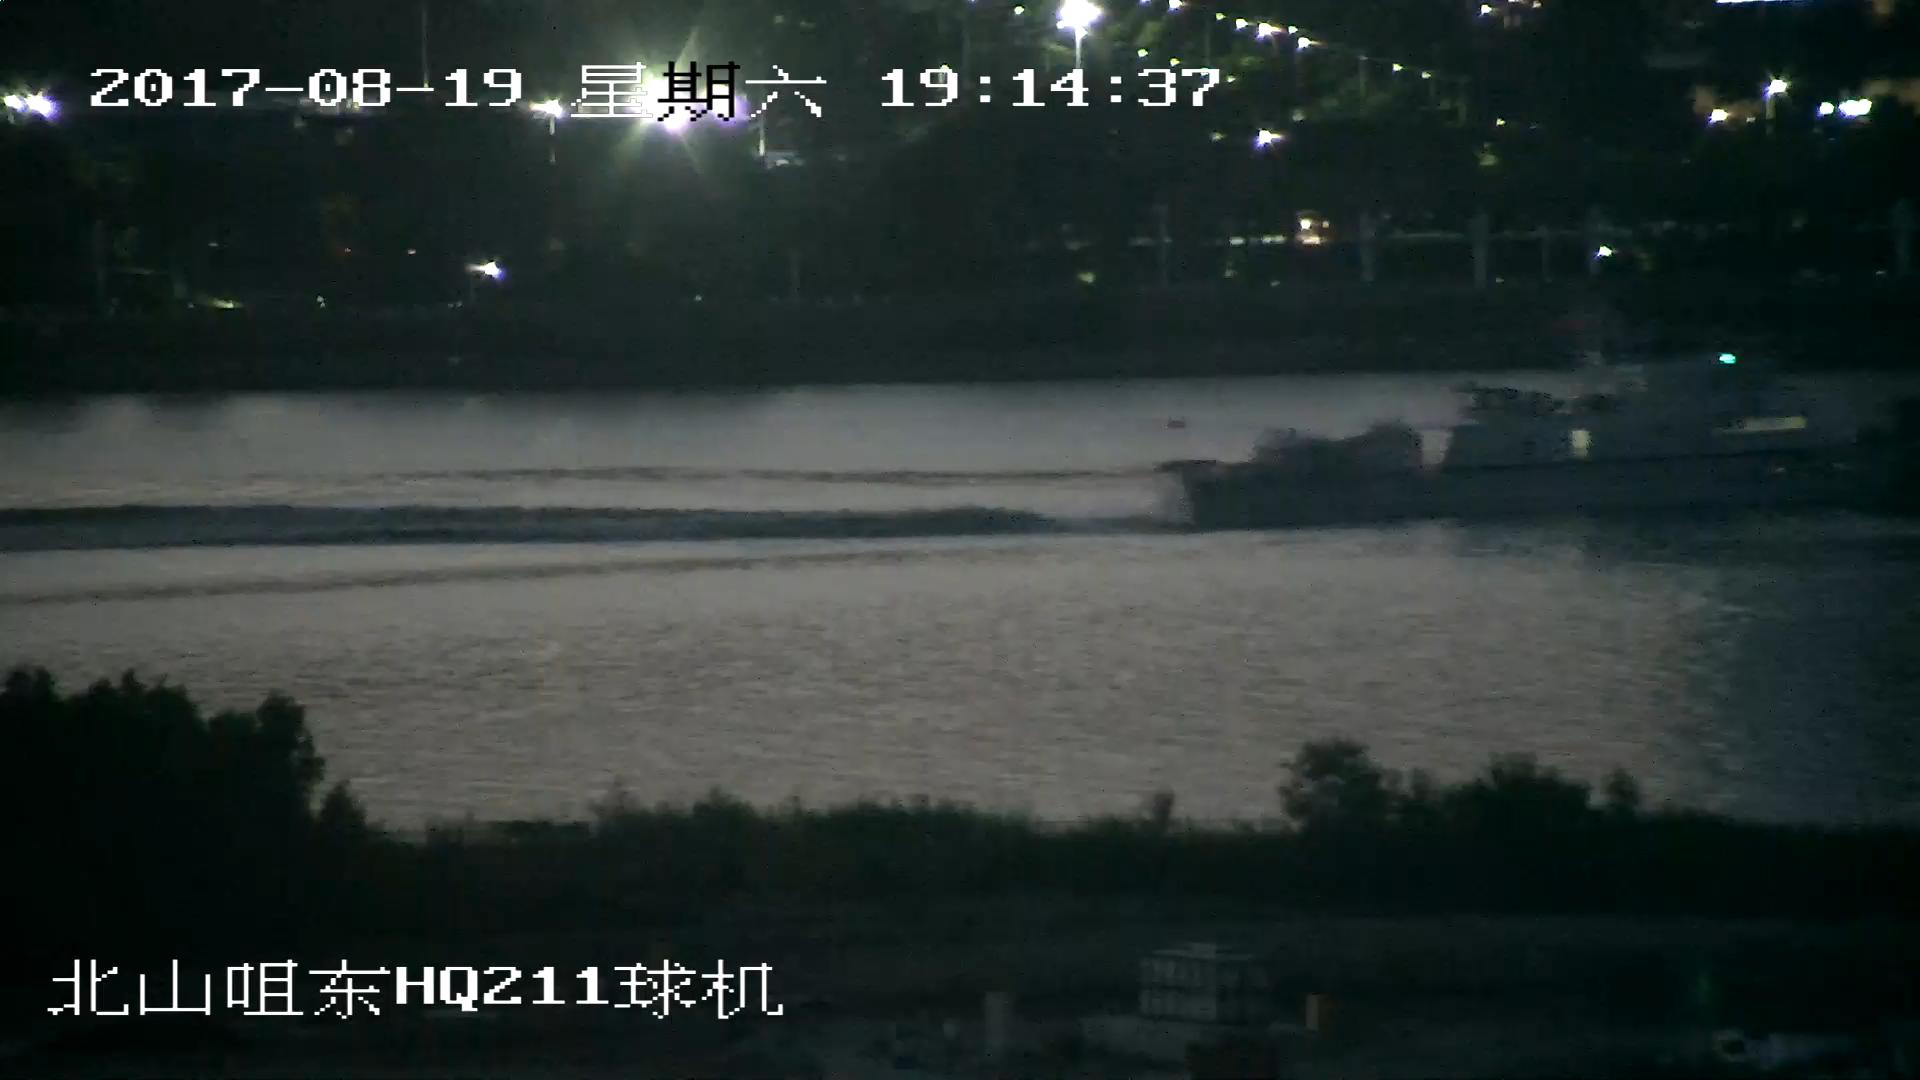passenger ship: (1162, 350, 1920, 528)
